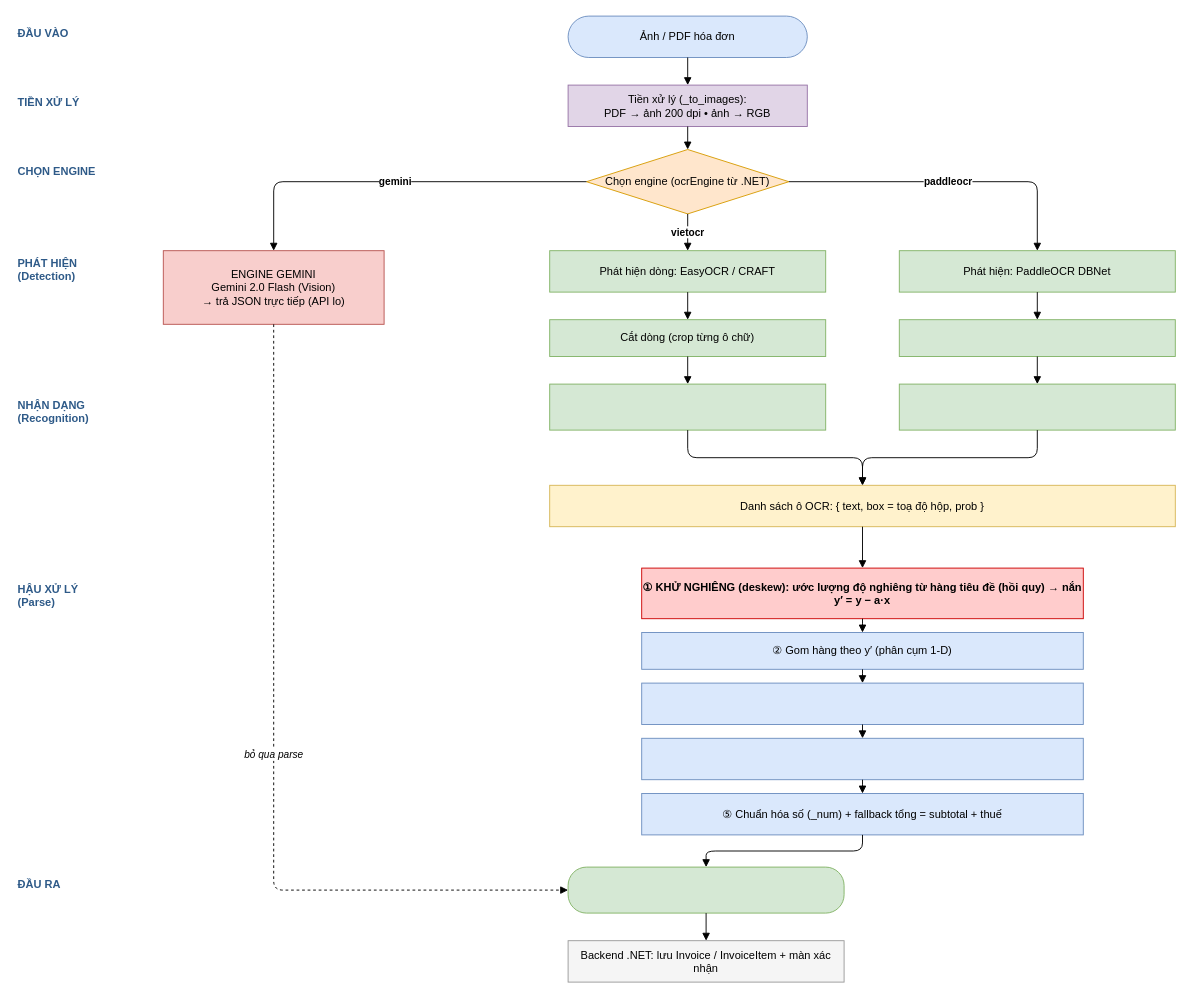
Some shapes in this 1191 by 998 pixel diagram are drawn without their labels. Each missing label, with the centre of its shape:
Nhận dạng: SVTR_LCNet (PP-OCRv4, fine-tune): (1036,406)
Nhận dạng: VietOCR (VGG19 → Transformer): (687,406)
Xoay góc: angle classifier (cls): (1036,337)
ĐẦU RA: JSON { fields, lineItems, confidence }: (705,889)
③ Trích TRƯỜNG: nhãn + regex (số HĐ, ngày, MST, tiền hàng, thuế, tổng): (862,703)
④ Trích BẢNG: gán ô vào cột theo tâm-x → line items: (862,758)
